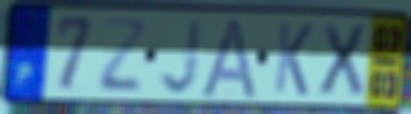7: (55, 14, 94, 96)
A: (196, 15, 260, 101)
J: (158, 16, 205, 97)
K: (272, 19, 316, 99)
X: (316, 21, 368, 99)
Z: (97, 15, 150, 96)
